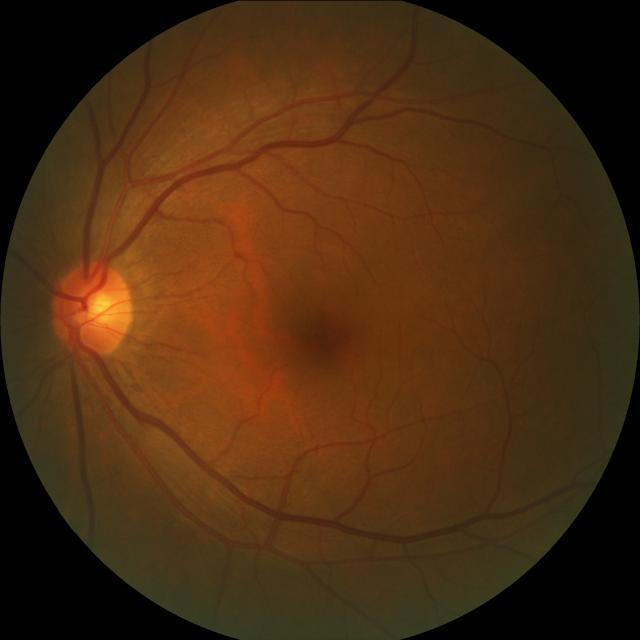OC: (85, 292, 112, 324)
OD: (54, 263, 132, 354)
